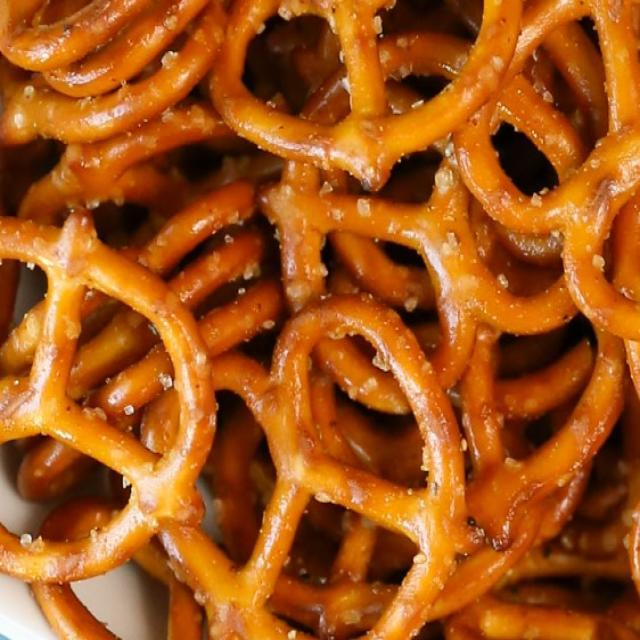Salatini: (16, 17, 628, 625)
